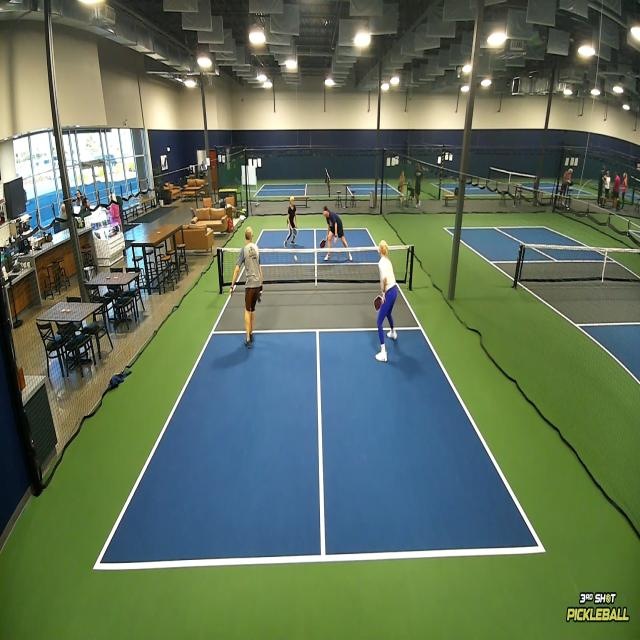Pickleball: (294, 254, 298, 262)
